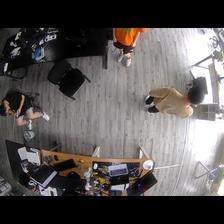normal: (146, 84, 204, 120), (108, 27, 148, 68)
